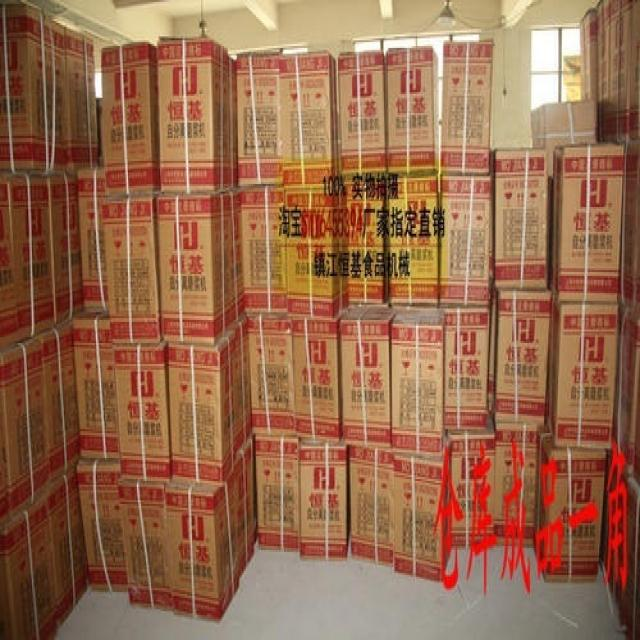box: (157, 188, 246, 347), (168, 314, 252, 481), (549, 142, 625, 303), (165, 464, 239, 621), (547, 293, 620, 450), (157, 34, 229, 192), (534, 425, 605, 583), (0, 6, 67, 171), (102, 192, 163, 345), (101, 42, 160, 199), (1, 335, 51, 517), (393, 433, 452, 583), (284, 188, 349, 322), (339, 307, 397, 446), (3, 494, 58, 640), (114, 343, 172, 481), (492, 149, 549, 289), (280, 54, 339, 188), (390, 309, 444, 454), (44, 466, 91, 632), (9, 174, 55, 341), (494, 289, 550, 425), (600, 450, 640, 640), (385, 46, 440, 178), (74, 458, 128, 592), (119, 477, 173, 611), (439, 174, 493, 307), (73, 310, 120, 462), (38, 318, 81, 481), (442, 40, 493, 174), (387, 176, 439, 307), (339, 52, 388, 184), (291, 318, 343, 441), (246, 310, 296, 437), (236, 54, 283, 186), (239, 186, 288, 312), (442, 307, 492, 429), (448, 416, 494, 548), (300, 437, 349, 560), (348, 445, 394, 567), (530, 100, 598, 182), (494, 422, 538, 546), (347, 180, 390, 305), (255, 433, 300, 550), (50, 172, 83, 326), (596, 0, 630, 144), (612, 303, 640, 475), (78, 167, 109, 312), (67, 27, 97, 171), (0, 172, 22, 351), (620, 138, 640, 312), (233, 435, 255, 579), (0, 351, 12, 523), (628, 0, 640, 138), (580, 10, 598, 100), (0, 523, 12, 640), (632, 312, 640, 485), (229, 56, 238, 188), (488, 291, 497, 416), (97, 98, 104, 167)
